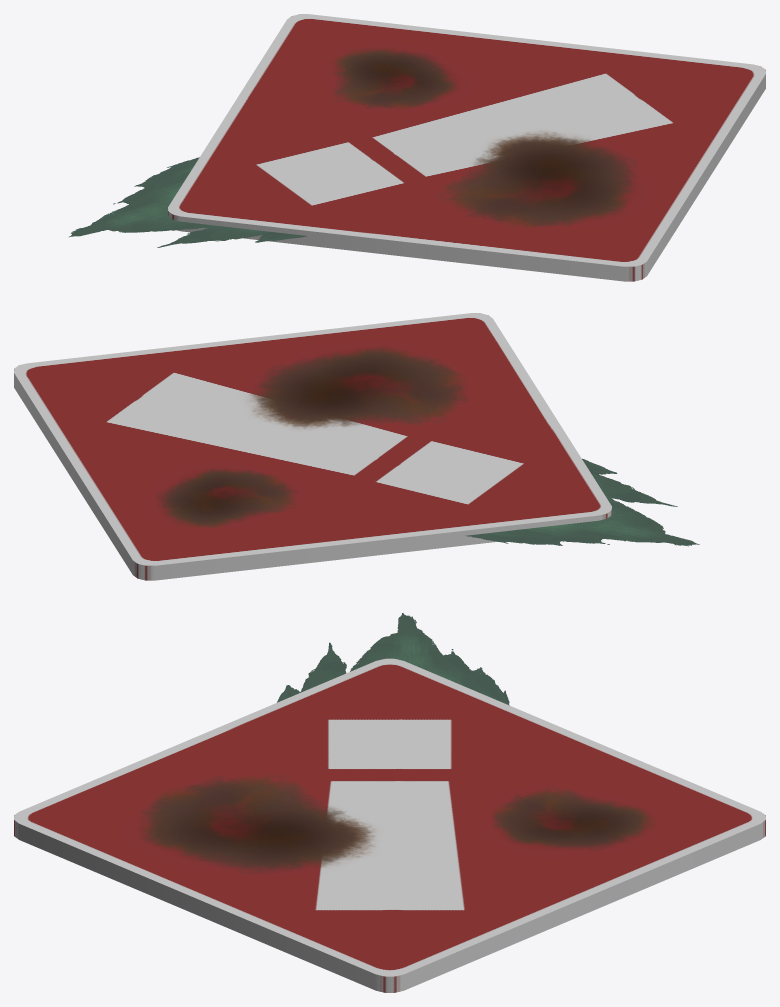
File: DangerSign-Fixed.fbx
3 renders of one model, top to bottom at view 1: azimuth 30°, elevation 25°; view 2: azimuth 150°, elevation 25°; view 3: azimuth 270°, elevation 25°, orthographic. The views are drawn at different scales.
Parts seen in each view (by area): view 1: Underwater Sign; view 2: Underwater Sign; view 3: Underwater Sign.
Boxes of the visible parts, x1=… form: Underwater Sign: x1=69, y1=14, x2=765, y2=281; Underwater Sign: x1=14, y1=313, x2=699, y2=580; Underwater Sign: x1=14, y1=613, x2=765, y2=992.
Bounding box in the file's own units: 2040 × 41.85 × 1751.
